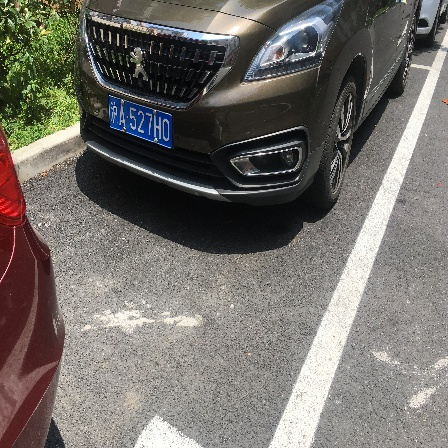plate: (106, 93, 176, 153)
